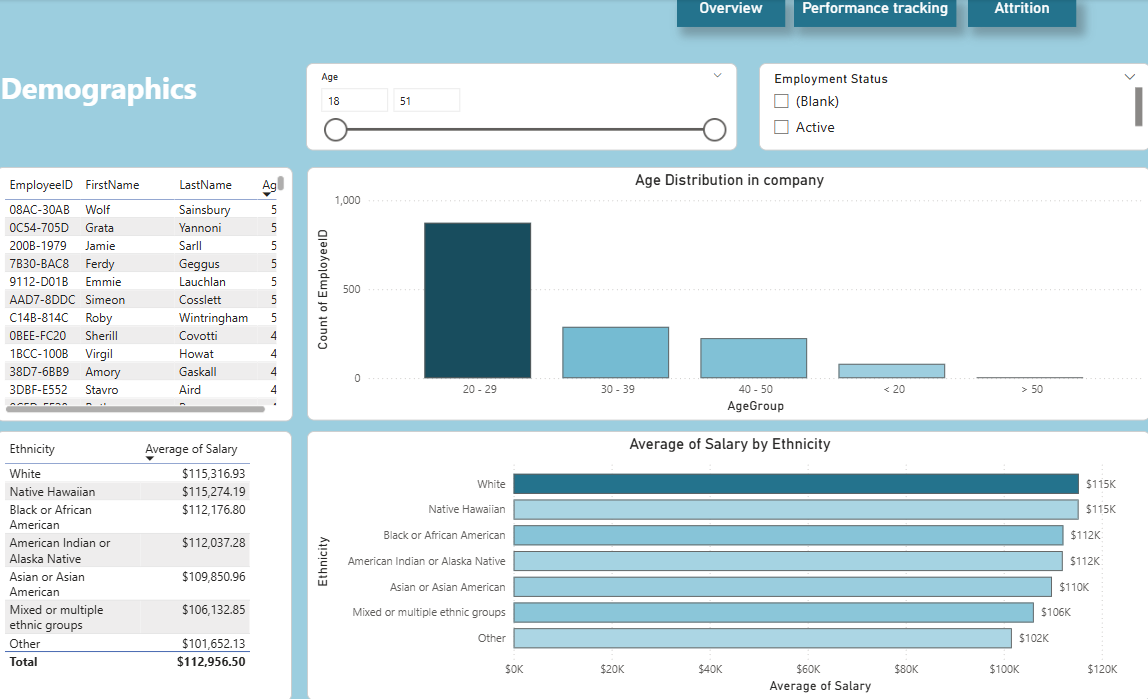

This screenshot's page, from the dashboard's own definition file:
{"tool":"powerbi","page":{"name":"Demographics","canvas":[1280,900],"ordinal":1},"visuals":[{"type":"clusteredColumnChart","title":"Age Distribution in company","fields":{"Category":["Employee.AgeGroup"],"Y":["Employee.EmployeeID"]},"box":[344.8,186.7,934.7,281.1],"z":0},{"type":"tableEx","fields":{"Values":["Employee.EmployeeID","Employee.FirstName","Employee.LastName","Employee.Age"]},"box":[0,70.9,328.1,396.8],"z":1000},{"type":"slicer","fields":{"Values":["Employee.Age"]},"box":[343.9,70.9,477.6,97.3],"z":2000},{"type":"slicer","fields":{"Values":["Employee.EmploymentStatus"]},"box":[845.8,70.9,433.8,97.3],"z":3000},{"type":"tableEx","fields":{"Values":["Employee.Ethnicity","Employee.Salary"]},"box":[0.5,478.5,327.8,299.6],"z":4000},{"type":"clusteredBarChart","fields":{"Category":["Employee.Ethnicity"],"Y":["Employee.Salary"]},"box":[344.5,479.3,935.4,298.9],"z":5000},{"type":"textbox","box":[0,15.5,319.2,138.5],"z":6000},{"type":"actionButton","title":"Overview","box":[754.8,0,119.7,31],"z":7000},{"type":"actionButton","title":"Performance tracking","box":[884.5,0,179.6,31],"z":8000},{"type":"actionButton","title":"Attrition","box":[1077.3,0,119.7,31],"z":9000}]}

Visuals, with their boxes on the page's 1280x900 design canvas (x1, y1, x2, y2). These are canvas units, not pixel positions in the 1148x699 screenshot, which may show the page scaled, cropped or inside an application window:
"Age Distribution in company" clusteredColumnChart: bbox=[345, 187, 1280, 468]
tableEx - Employee.EmployeeID x Employee.FirstName: bbox=[0, 71, 328, 468]
slicer - Employee.Age: bbox=[344, 71, 822, 168]
slicer - Employee.EmploymentStatus: bbox=[846, 71, 1280, 168]
tableEx - Employee.Ethnicity x Employee.Salary: bbox=[0, 478, 328, 778]
clusteredBarChart - Employee.Ethnicity x Employee.Salary: bbox=[344, 479, 1280, 778]
textbox: bbox=[0, 16, 319, 154]
"Overview" actionButton: bbox=[755, 0, 874, 31]
"Performance tracking" actionButton: bbox=[884, 0, 1064, 31]
"Attrition" actionButton: bbox=[1077, 0, 1197, 31]
